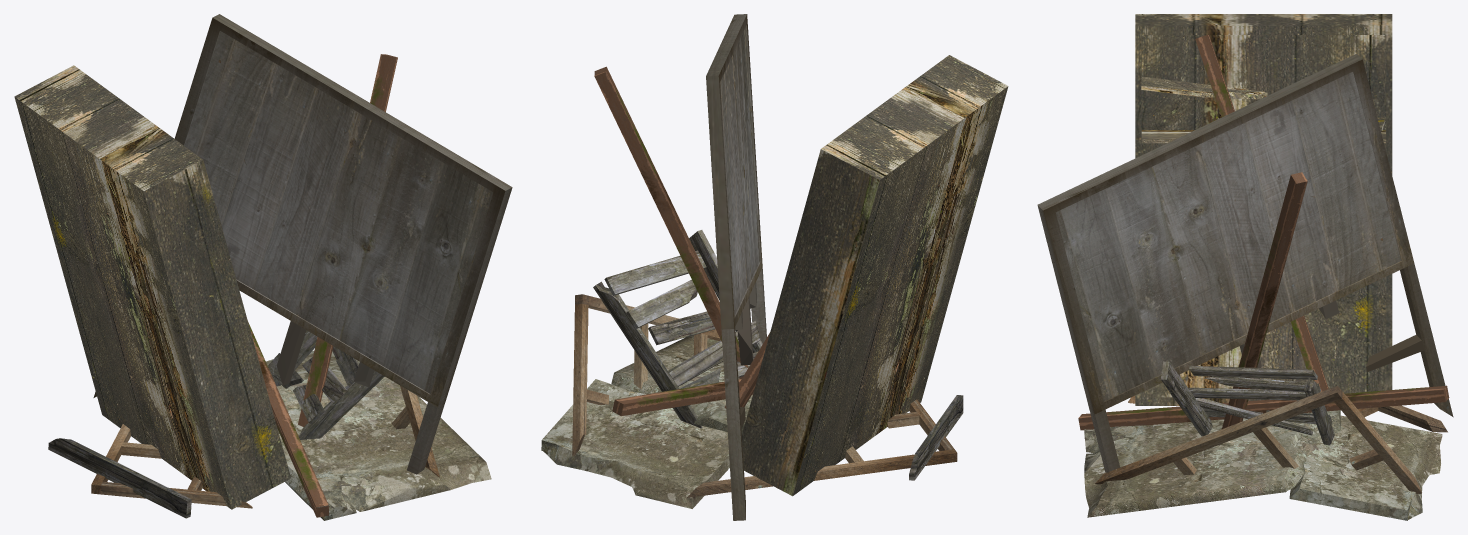
The model's file is Gareki4.fbx.
The picture shows the model from 3 angles, left to right: view 1: azimuth 30°, elevation 25°; view 2: azimuth 150°, elevation 25°; view 3: azimuth 270°, elevation 25°; orthographic projection.
Parts seen in each view (by area): view 1: pCube18, gareki2:pCube1, gareki2:polySurface9, polySurface9, gareki2:pCube7, gareki2:pCube6, polySurface16, polySurface1, polySurface11, polySurface3, polySurface15, polySurface6; view 2: gareki2:pCube1, pCube18, gareki2:polySurface11, gareki2:pCube6, gareki2:polySurface9, polySurface3, polySurface19, polySurface12, gareki2:pCube7, pCube16, polySurface18, polySurface9 (+6 smaller); view 3: pCube18, gareki2:pCube1, gareki2:polySurface9, gareki2:polySurface11, gareki2:pCube6, gareki2:pCube7, polySurface11, gareki2:pCube5, polySurface12, polySurface16, gareki2:polySurface1, pCube16 (+7 smaller).
Boxes of the visible parts, x1,y1,x2,y2 form: pCube18: [93, 14, 512, 474]; gareki2:pCube1: [14, 65, 290, 509]; gareki2:polySurface9: [276, 374, 491, 520]; polySurface9: [48, 438, 191, 518]; gareki2:pCube7: [248, 322, 328, 517]; gareki2:pCube6: [298, 54, 397, 426]; polySurface16: [298, 371, 384, 439]; polySurface1: [100, 481, 252, 508]; polySurface11: [400, 385, 439, 477]; polySurface3: [91, 424, 130, 494]; polySurface15: [293, 384, 324, 424]; polySurface6: [302, 357, 346, 402]; gareki2:pCube1: [742, 55, 1008, 496]; pCube18: [706, 14, 766, 520]; gareki2:polySurface11: [541, 379, 729, 508]; gareki2:pCube6: [594, 66, 748, 378]; gareki2:polySurface9: [611, 335, 752, 434]; polySurface3: [687, 449, 957, 497]; polySurface19: [593, 281, 702, 428]; polySurface12: [572, 303, 588, 456]; gareki2:pCube7: [612, 379, 753, 416]; pCube16: [604, 250, 706, 295]; polySurface18: [626, 279, 697, 328]; polySurface9: [909, 395, 963, 480]; pCube18: [1037, 53, 1453, 472]; gareki2:pCube1: [1135, 14, 1392, 405]; gareki2:polySurface9: [1084, 410, 1340, 517]; gareki2:polySurface11: [1289, 415, 1442, 520]; gareki2:pCube6: [1222, 172, 1307, 428]; gareki2:pCube7: [1078, 385, 1449, 430]; polySurface11: [1095, 386, 1342, 484]; gareki2:pCube5: [1195, 35, 1328, 391]; polySurface12: [1334, 392, 1421, 493]; polySurface16: [1160, 361, 1212, 436]; gareki2:polySurface1: [1141, 76, 1267, 99]; pCube16: [1189, 365, 1317, 379].
Size of the model in its own units: 300 by 343 by 324.
